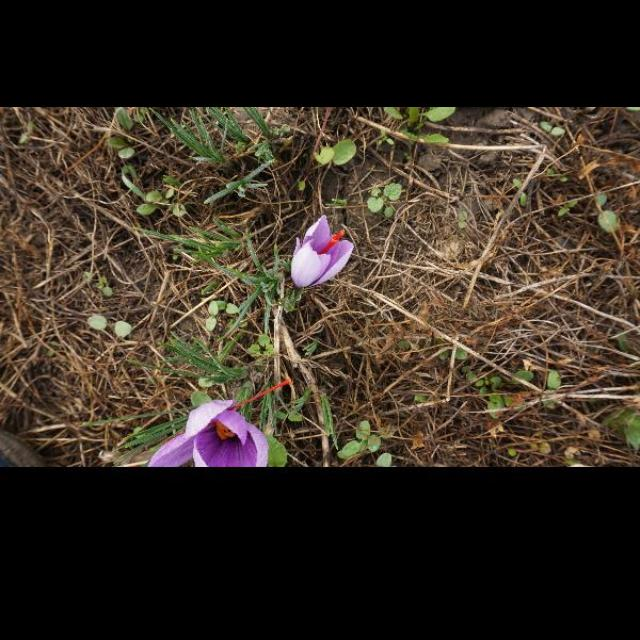flower: (150, 378, 292, 468), (291, 216, 355, 288)
